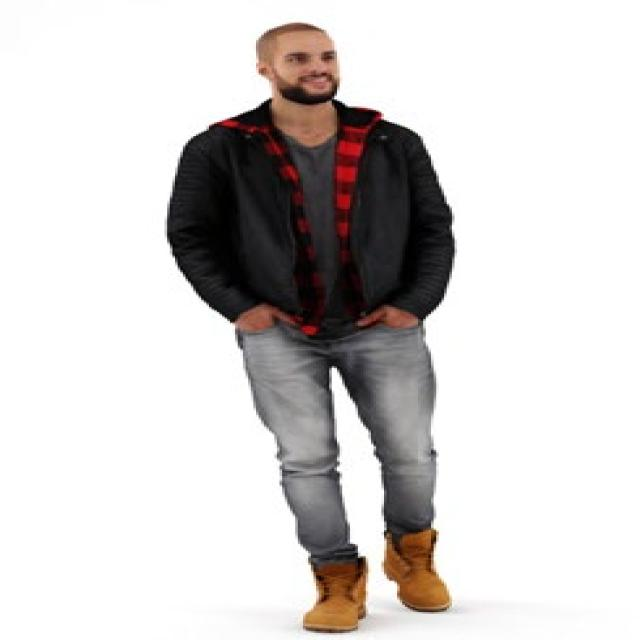standing: (160, 21, 463, 634)
